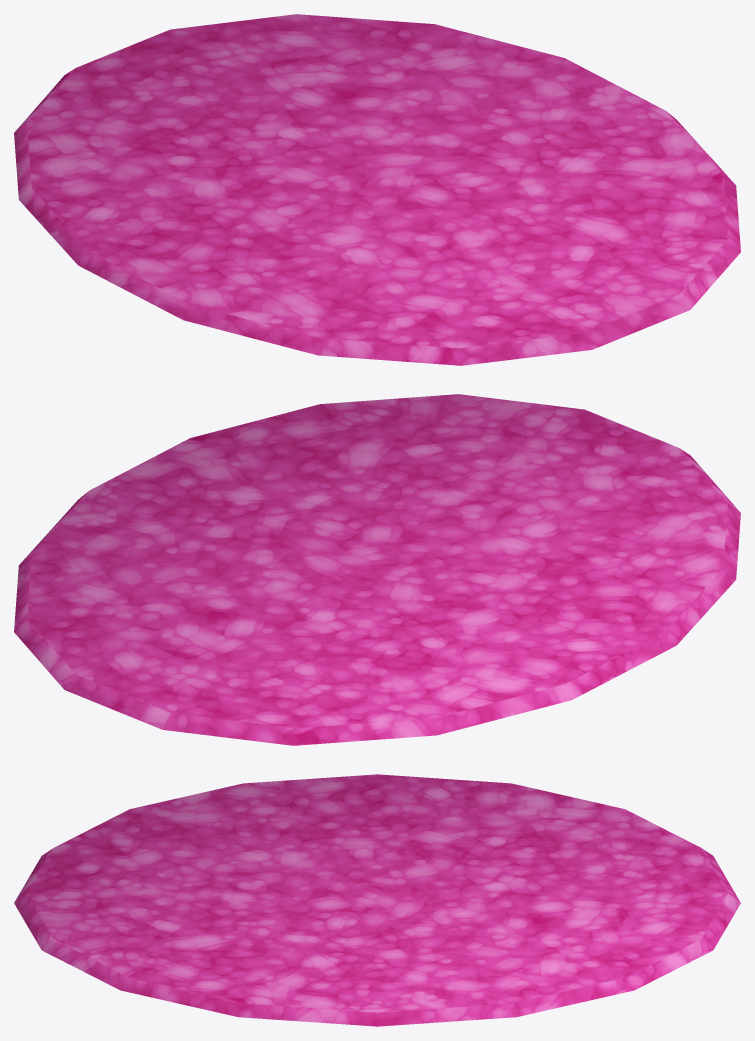
The model's file is Prop_077_Rug_B_001.fbx.
The picture shows the model from 3 angles, top to bottom: view 1: azimuth 30°, elevation 25°; view 2: azimuth 150°, elevation 25°; view 3: azimuth 270°, elevation 25°; orthographic projection. The views are drawn at different scales.
Visible parts, largest first — view 1: Prop_077_Rug_B_001; view 2: Prop_077_Rug_B_001; view 3: Prop_077_Rug_B_001.
Part boxes in pixels (x1,y1,x2,y2): Prop_077_Rug_B_001: [14, 14, 740, 365]; Prop_077_Rug_B_001: [14, 394, 740, 745]; Prop_077_Rug_B_001: [14, 774, 740, 1026].
Bounding box in the file's own units: 3.35 × 0.0611 × 4.16.
Materials: 1 (1 with a texture image).
